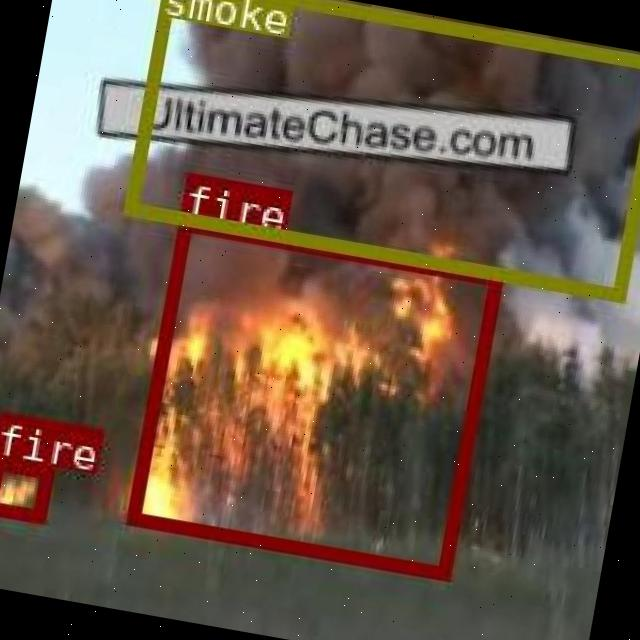fire: (123, 216, 500, 576), (0, 454, 50, 520)
smoke: (122, 0, 640, 300)
